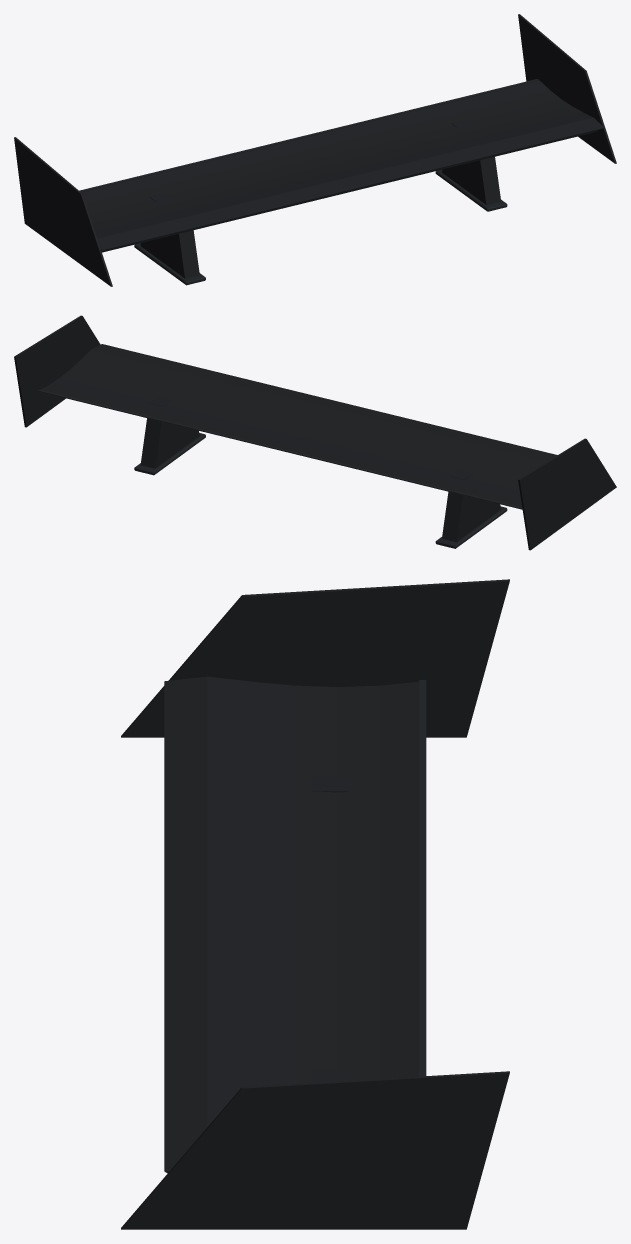
File: apex_v8.glb
The picture shows the model from 3 angles, top to bottom: view 1: azimuth 30°, elevation 25°; view 2: azimuth 150°, elevation 25°; view 3: azimuth 270°, elevation 25°; orthographic projection. The views are drawn at different scales.
Visible parts, largest first — view 1: wing_element, model; view 2: wing_element, model; view 3: wing_element, model.
Boxes of the visible parts, x1,y1,x2,y2 form: wing_element: [14, 14, 616, 286]; model: [134, 119, 507, 285]; wing_element: [14, 315, 616, 550]; model: [134, 396, 507, 548]; wing_element: [121, 579, 509, 1229]; model: [311, 777, 348, 1082].
Bounding box in the file's own units: 1.71 × 0.3632 × 0.57.
Materials: 2 (1 with a texture image).
